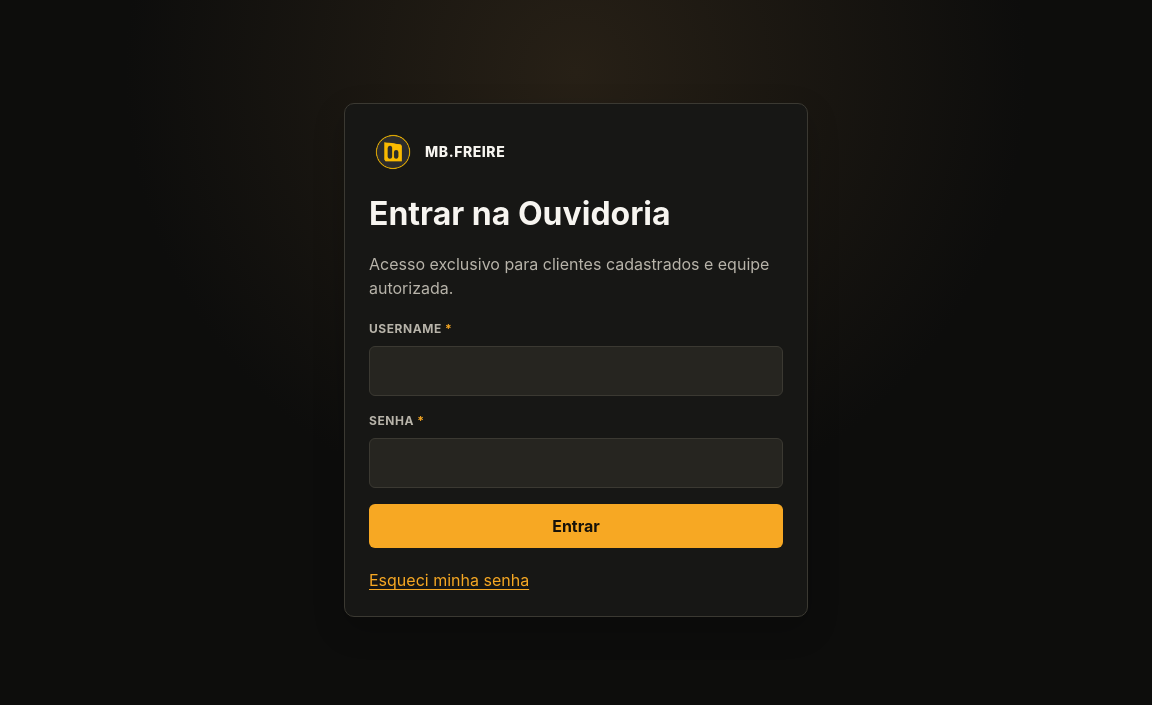
Test case: mostra falha 403 da desativação e preserva a categoria ativa
The width and height of the screenshot is (1152, 705).
Type "admin" into the field labelled "Username".
click(576, 371); type("admin")  # box [369, 346, 783, 396]
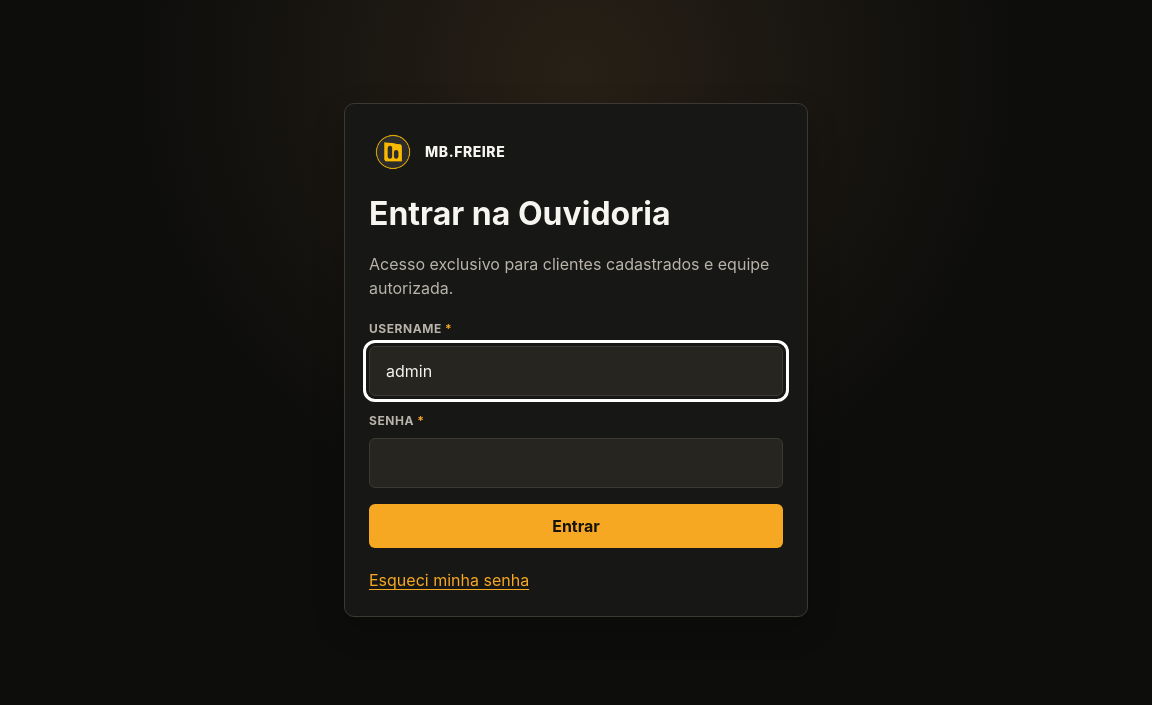
Type "senha-correta" into the password field labelled "Senha *".
click(576, 463); type("senha-correta")  # box [369, 438, 783, 488]
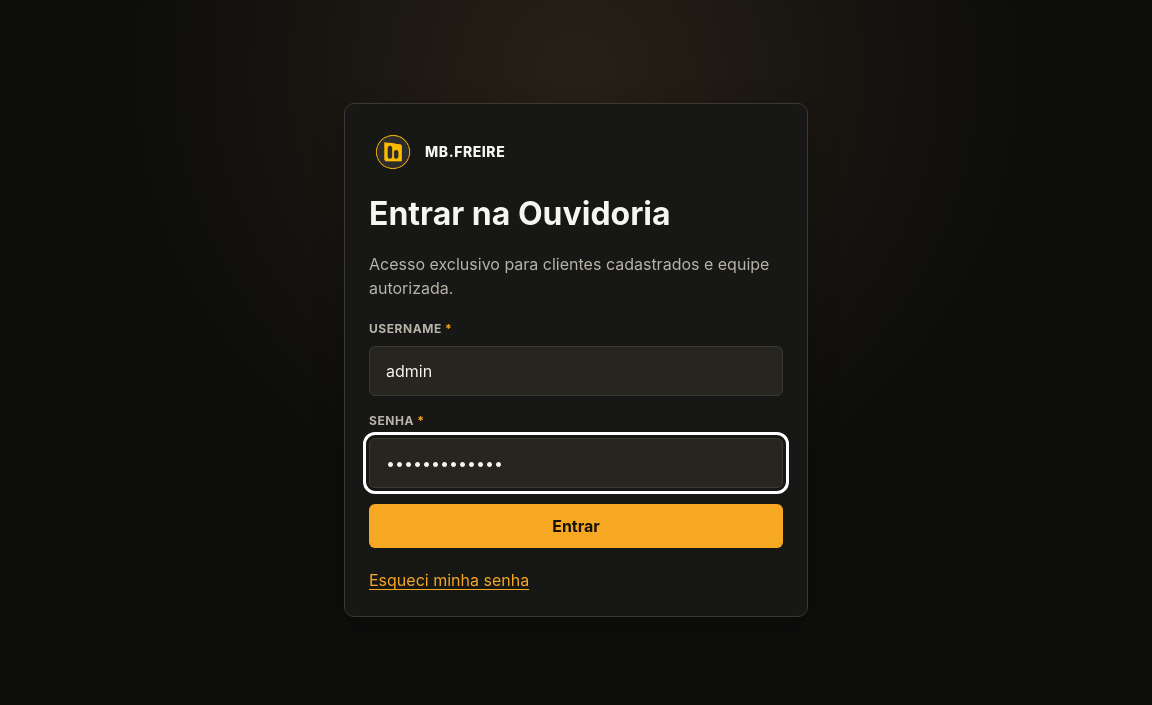
Click the button "Entrar".
click(576, 526)  # box [369, 504, 783, 548]
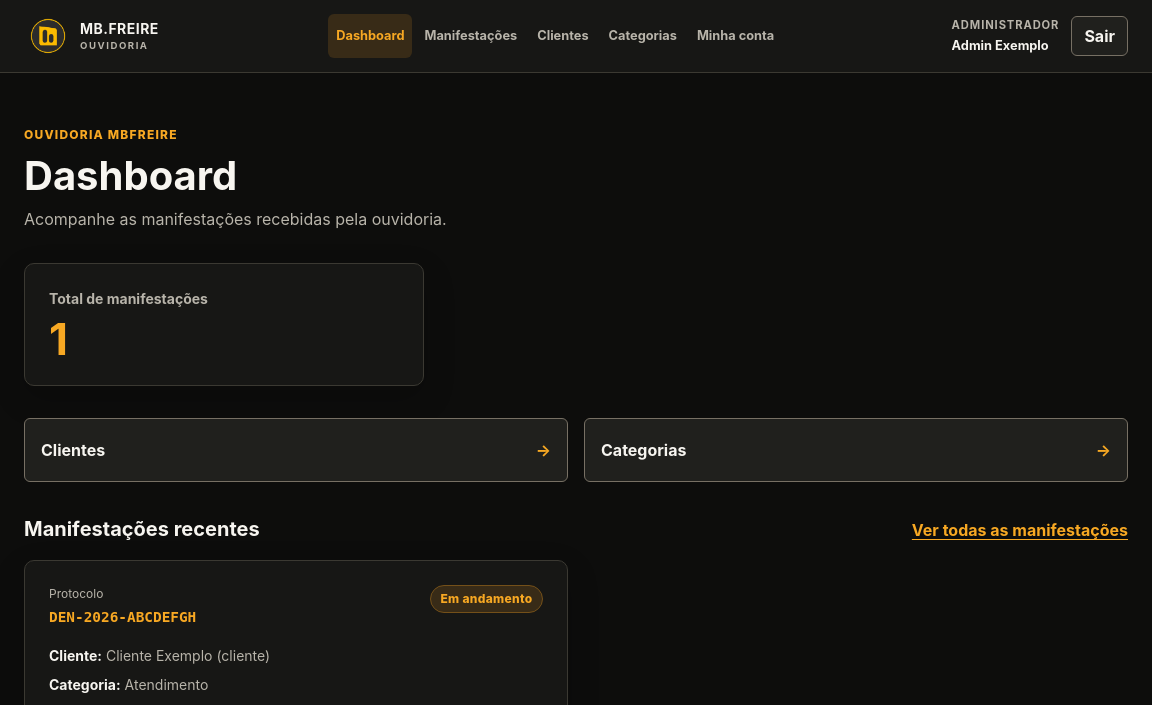
Expected: the heading "Dashboard" is shown, [24, 151, 237, 200]
Click the link "Categorias →".
click(644, 450)  # box [584, 418, 1128, 482]
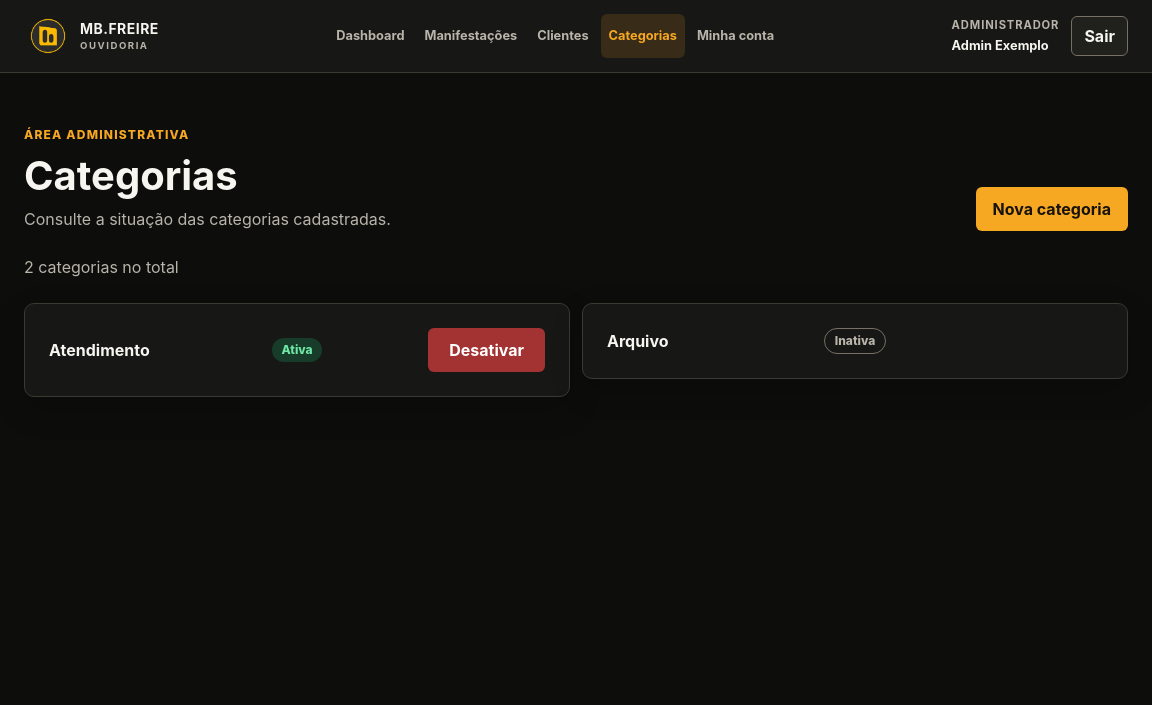
Expected: the heading "Categorias" is shown, [24, 151, 238, 200]
Click the button named "Desativar Atendimento".
click(487, 350)  # box [428, 328, 545, 372]
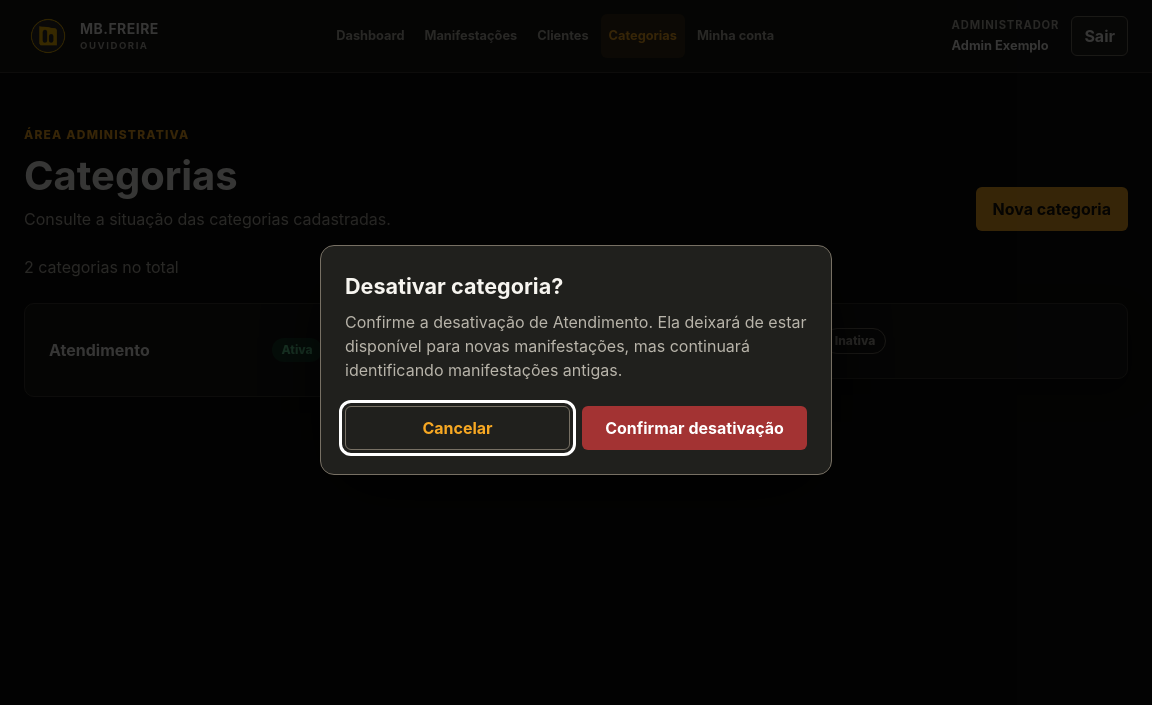
Click the button "Confirmar desativação".
click(694, 428)  # box [582, 406, 807, 450]
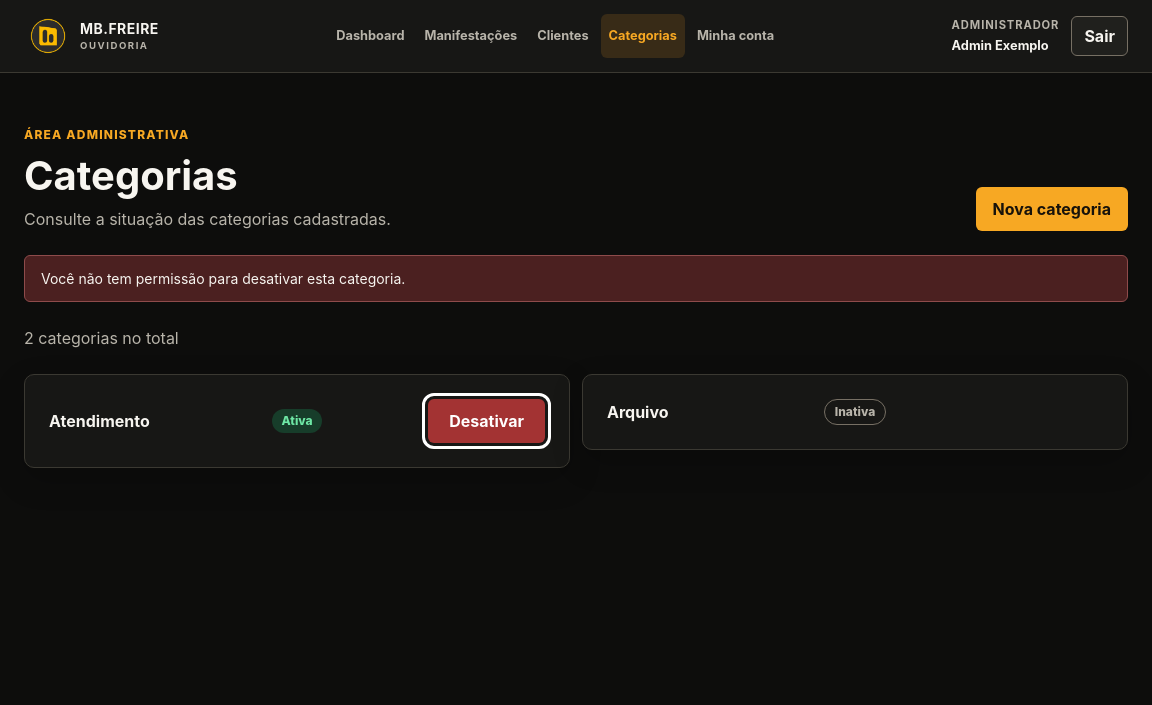
Expected: the text "Ativa" is shown, [272, 409, 322, 433]
Expected: the button named "Desativar Atendimento" is shown, [428, 399, 545, 443]
Expected: the message reads "Você não tem permissão para desativar esta categoria.", [41, 270, 405, 287]
